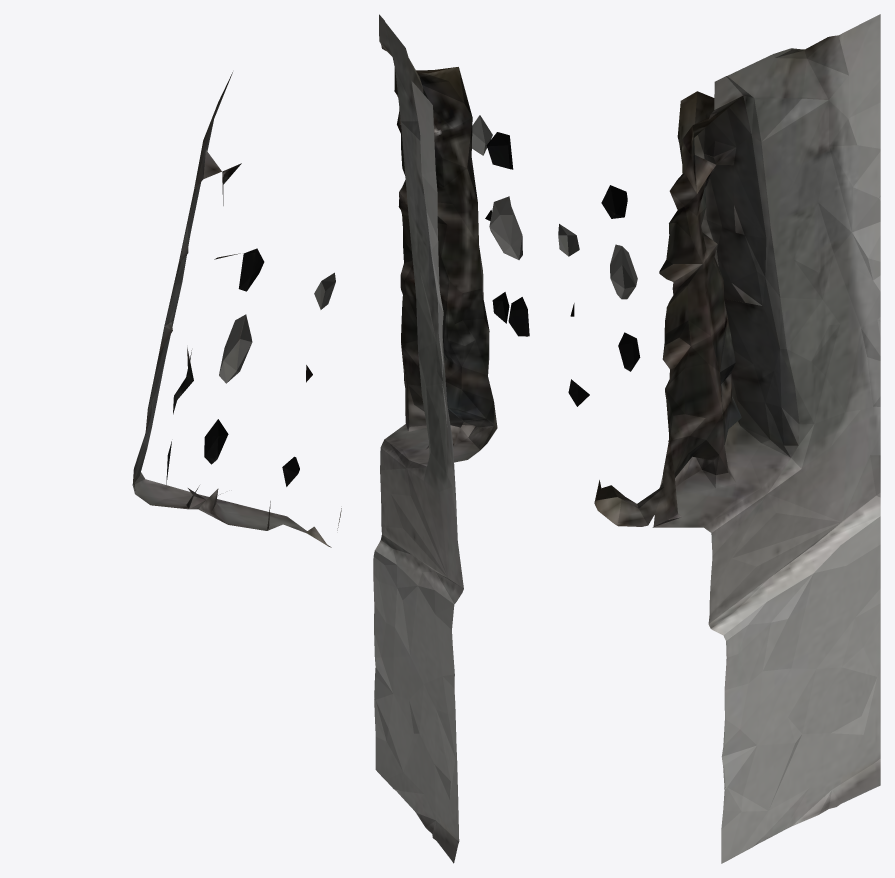
3 views of the same model, side by side, from view 1: azimuth 30°, elevation 25°; view 2: azimuth 150°, elevation 25°; view 3: azimuth 270°, elevation 25° (orthographic). The views are drawn at different scales.
Size of the model in its own units: 0.3814 by 1.67 by 0.6261.
Materials: 1 (1 with a texture image).
